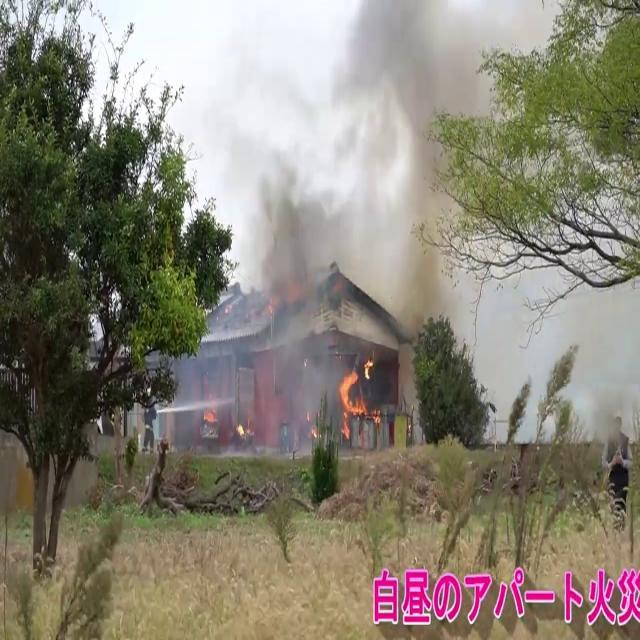Fire: (336, 350, 376, 434)
Smoke: (326, 0, 530, 283), (231, 122, 347, 438)
